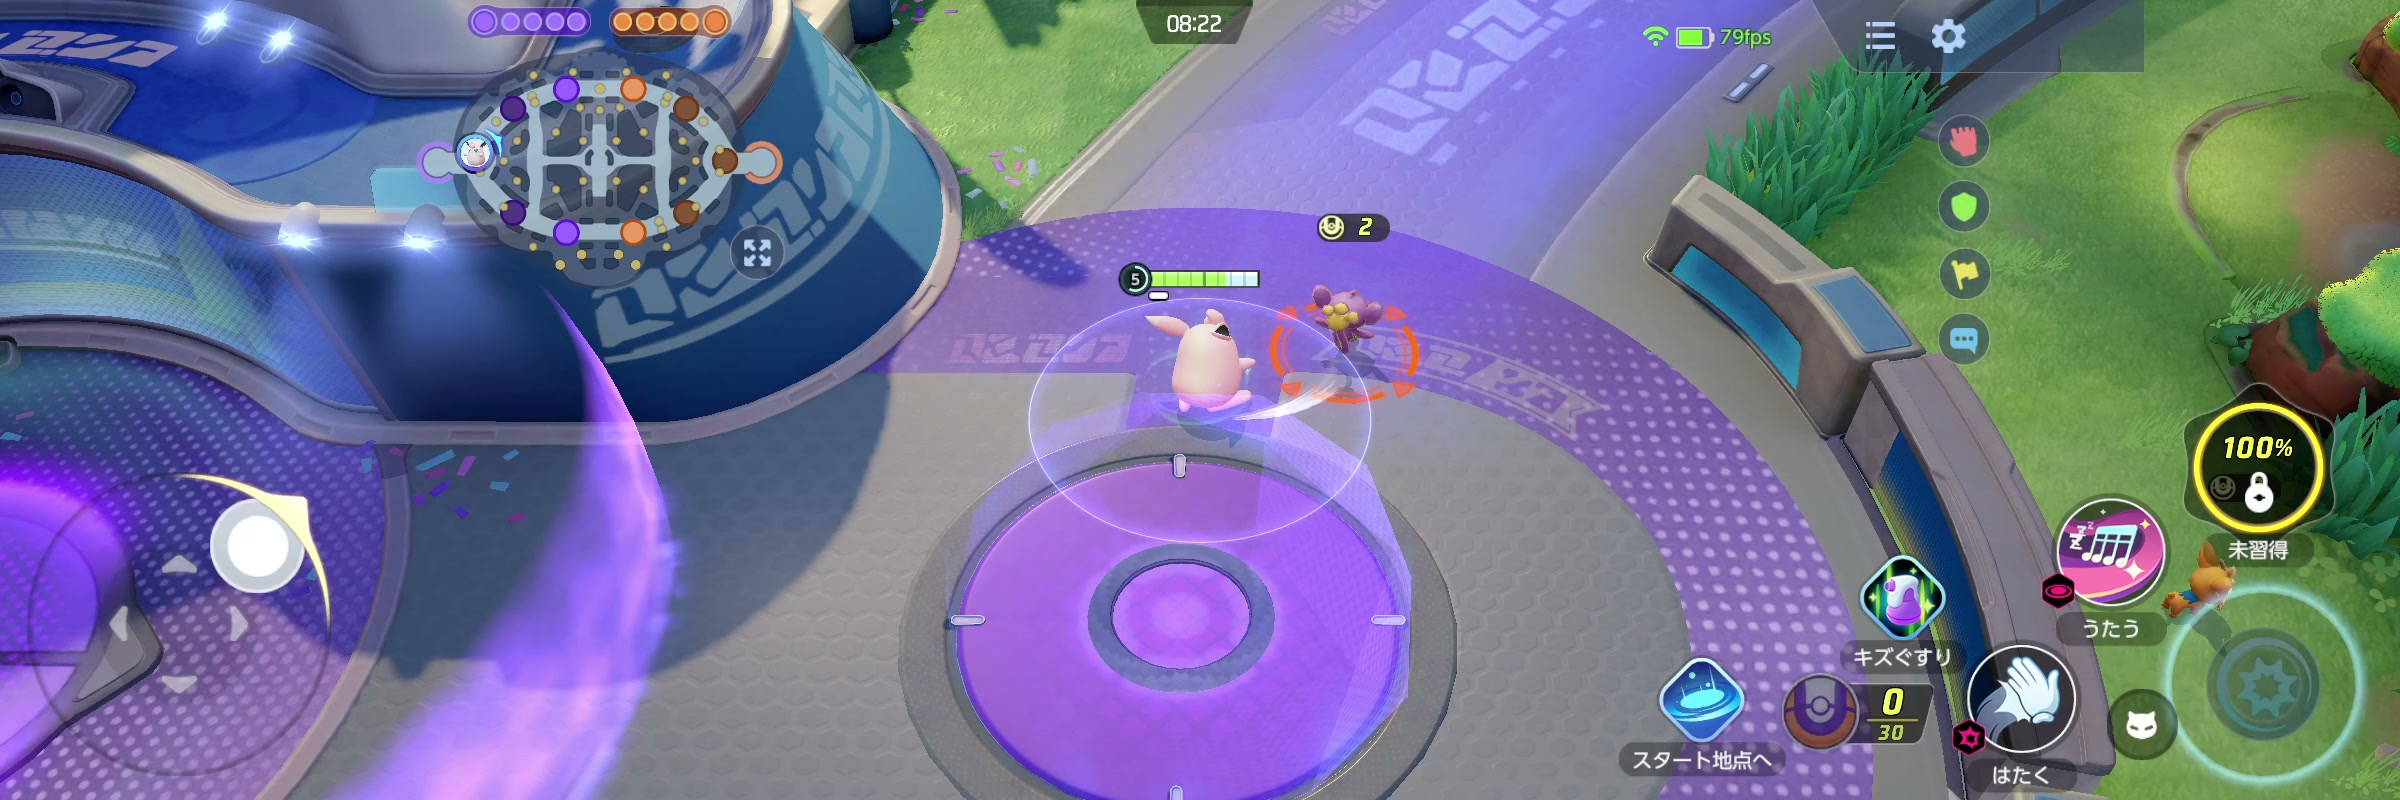wigglytuff: (1110, 317, 1267, 453)
